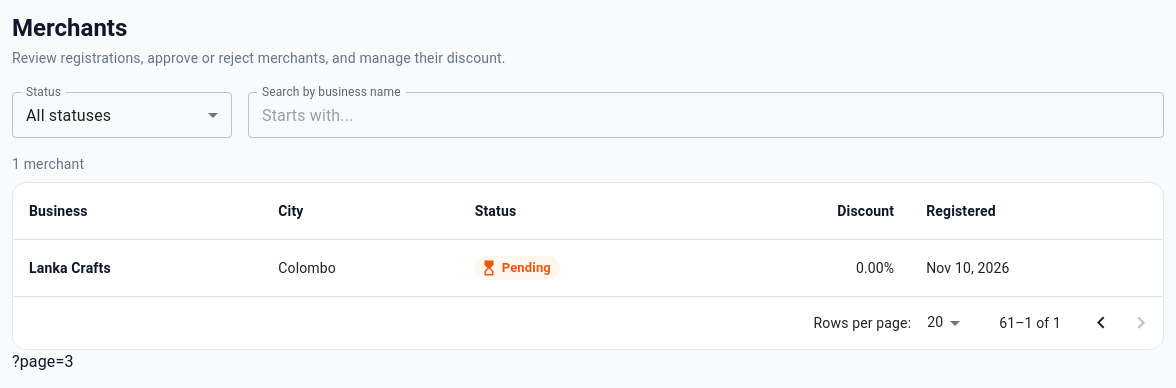
Test: TST-040 Member 3: admin merchant directory (FR-AUTH-017, UC-A05) › searches by business-name prefix after the user stops typing: one request, back to page 0
The width and height of the screenshot is (1176, 388).
Expected: the link "Lanka Crafts" is shown, [29,260,111,276]
Type "alp" into the search field labelled "Search by business name". click: (706, 115)
box: [248,95,1164,135]
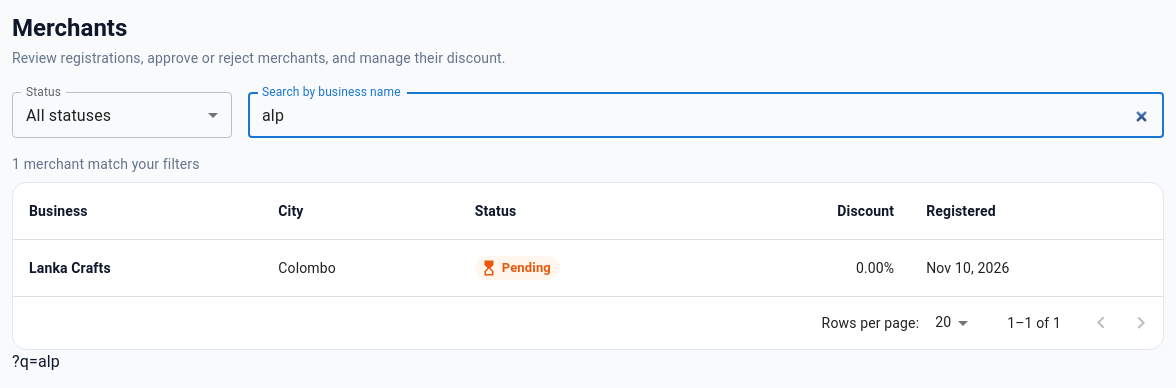
Expected: the text with test id "search" reads "?q=alp", [12,352,60,371]
